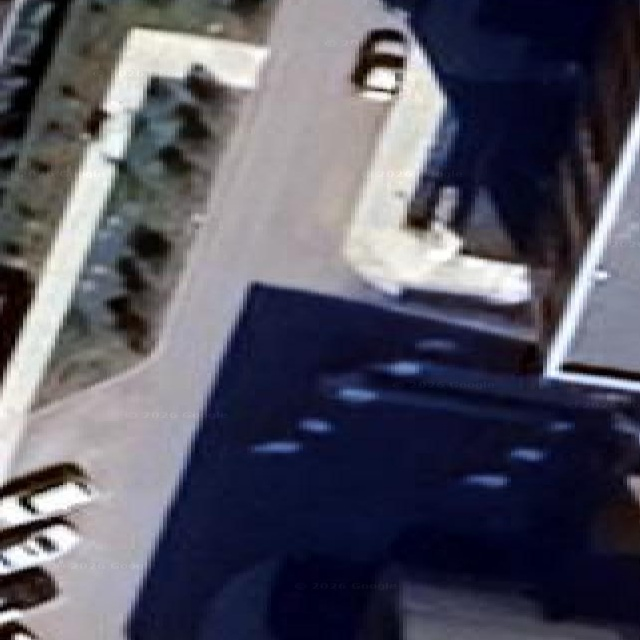car: (344, 28, 544, 329), (0, 463, 96, 524), (0, 517, 80, 575), (351, 28, 408, 100), (0, 263, 32, 371), (0, 567, 56, 624), (0, 107, 20, 198), (0, 623, 36, 639), (0, 633, 2, 637), (491, 318, 492, 320)
